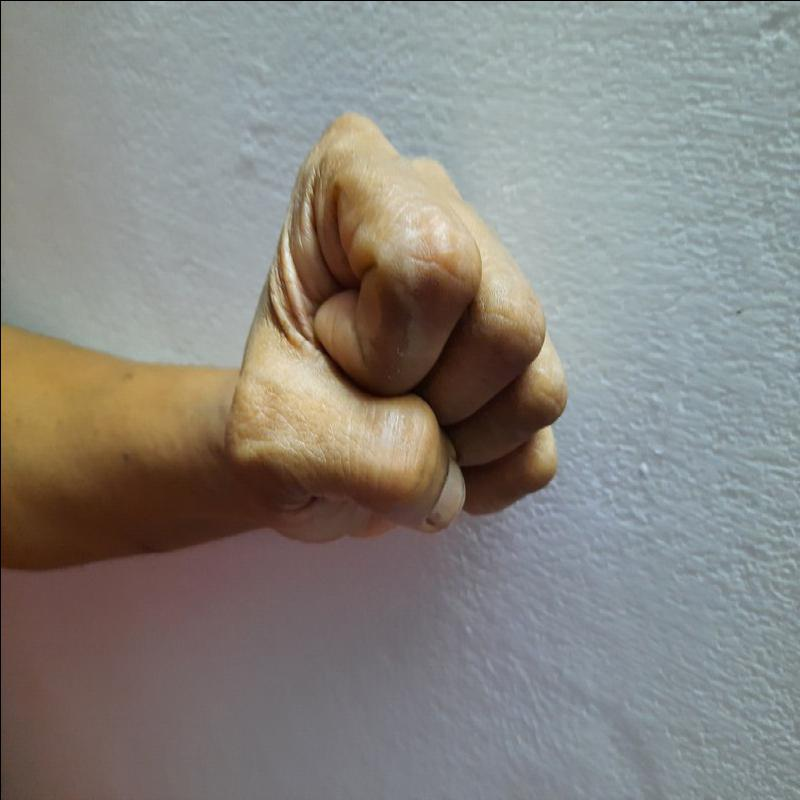Mushti: (201, 92, 581, 568)
